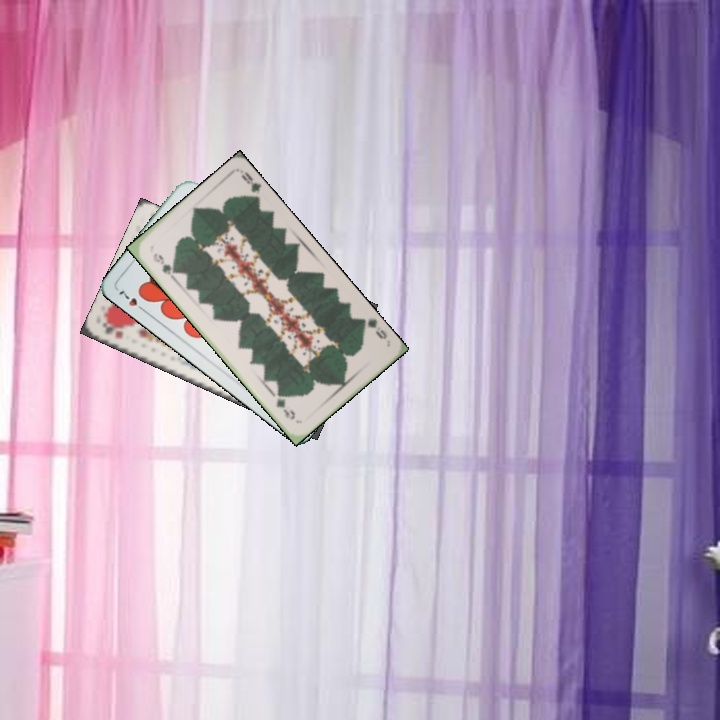G9: (357, 314, 390, 342), (149, 249, 179, 277)
H7: (114, 286, 149, 315)
HK: (99, 318, 125, 342)
